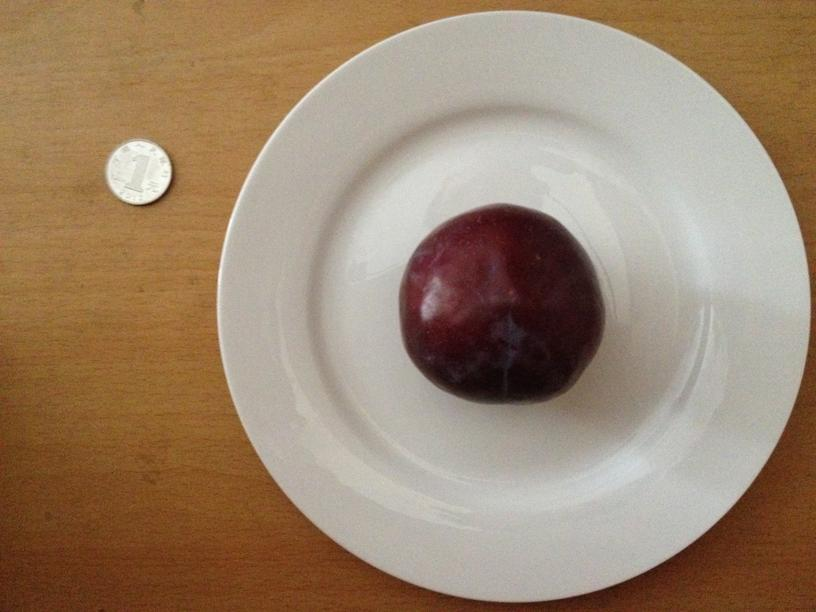coin: (97, 134, 174, 205)
plum: (391, 204, 603, 403)
